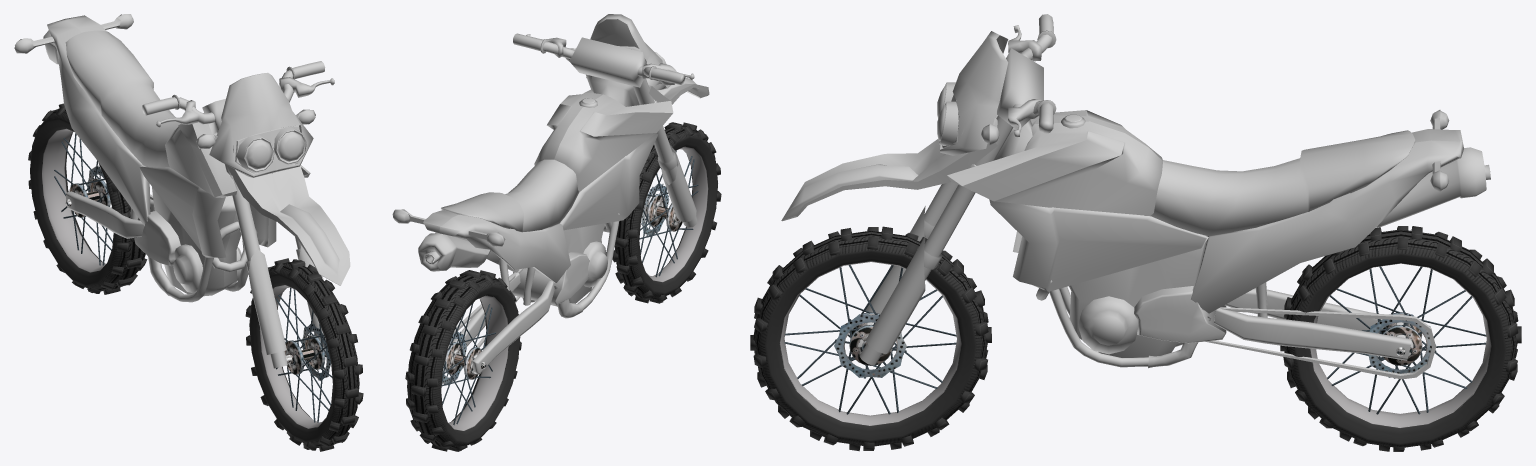
Rendered from bike03.fbx.
3 renders of one model, left to right at view 1: azimuth 30°, elevation 25°; view 2: azimuth 150°, elevation 25°; view 3: azimuth 270°, elevation 25°, orthographic. The views are drawn at different scales.
Parts seen in each view (by area): view 1: bike03_polySurface584, Tyre, Tyre1, polySurface579, polySurface566, polySurface547, polySurface568, polySurface594, polySurface564, polySurface543, polySurface551, polySurface596 (+5 smaller); view 2: bike03_polySurface584, Tyre1, Tyre, polySurface579, polySurface559, polySurface568, polySurface594, polySurface566, polySurface547, polySurface564, polySurface552, polySurface543 (+4 smaller); view 3: bike03_polySurface584, Tyre, Tyre1, polySurface579, polySurface551, polySurface569, polySurface550, polySurface549, polySurface567, polySurface585, polySurface559, polySurface565 (+3 smaller).
Boxes of the visible parts, x1,y1,x2,y2 form: bike03_polySurface584: [14, 14, 350, 302]; Tyre: [245, 258, 363, 451]; Tyre1: [28, 103, 150, 294]; polySurface579: [65, 30, 180, 167]; polySurface566: [248, 249, 286, 354]; polySurface547: [152, 187, 235, 296]; polySurface568: [65, 191, 144, 238]; polySurface594: [134, 211, 180, 266]; polySurface564: [230, 175, 287, 368]; polySurface543: [173, 244, 202, 293]; polySurface551: [213, 195, 241, 294]; polySurface596: [233, 125, 299, 173]; bike03_polySurface584: [392, 14, 709, 318]; Tyre1: [405, 270, 521, 451]; Tyre: [612, 122, 721, 303]; polySurface579: [441, 159, 579, 232]; polySurface559: [569, 37, 646, 87]; polySurface568: [472, 280, 554, 374]; polySurface594: [531, 252, 589, 305]; polySurface566: [661, 145, 696, 221]; polySurface547: [554, 223, 604, 306]; polySurface564: [653, 99, 697, 227]; polySurface552: [591, 76, 639, 106]; polySurface543: [583, 241, 607, 287]; bike03_polySurface584: [781, 31, 1490, 368]; Tyre: [750, 226, 991, 451]; Tyre1: [1280, 226, 1521, 451]; polySurface579: [1150, 130, 1415, 235]; polySurface551: [1069, 234, 1206, 357]; polySurface569: [1214, 308, 1411, 360]; polySurface550: [1134, 286, 1226, 343]; polySurface549: [1078, 296, 1138, 354]; polySurface567: [865, 236, 925, 353]; polySurface585: [1202, 307, 1435, 379]; polySurface559: [997, 48, 1043, 129]; polySurface565: [859, 164, 976, 365].
Size of the model in its own units: 9.38 by 16.82 by 28.56.
